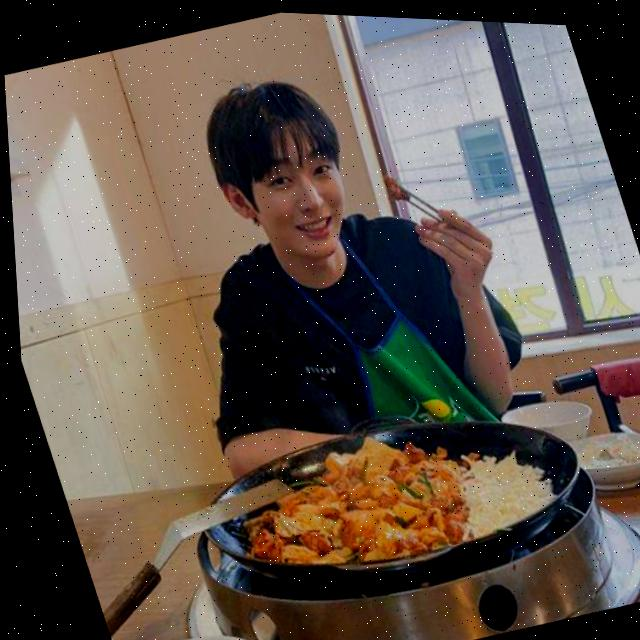eating-person: (79, 5, 570, 528)
